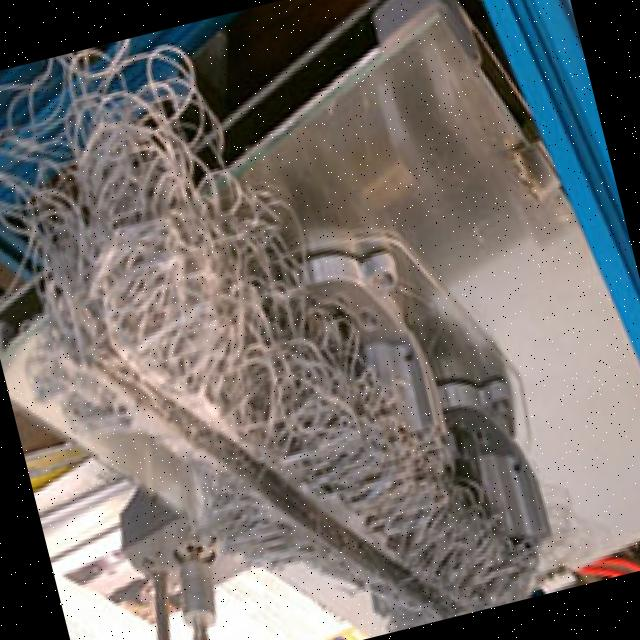spaghetti: (0, 11, 545, 640)
